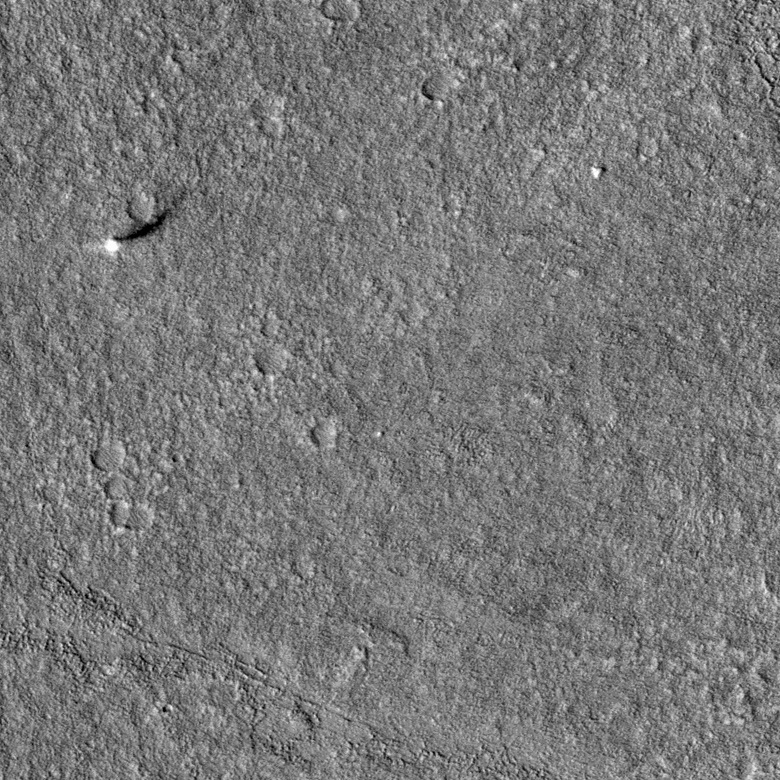dust_devil: (101, 205, 172, 255)
